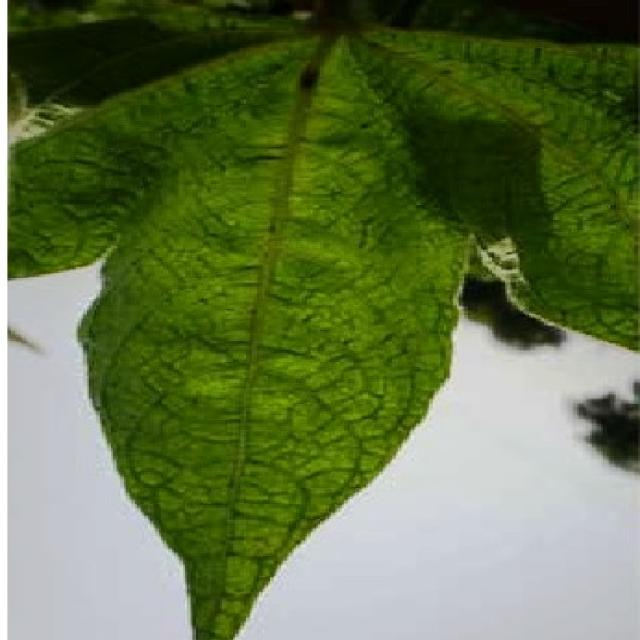Leaf Curl Virus: (37, 83, 601, 499)
